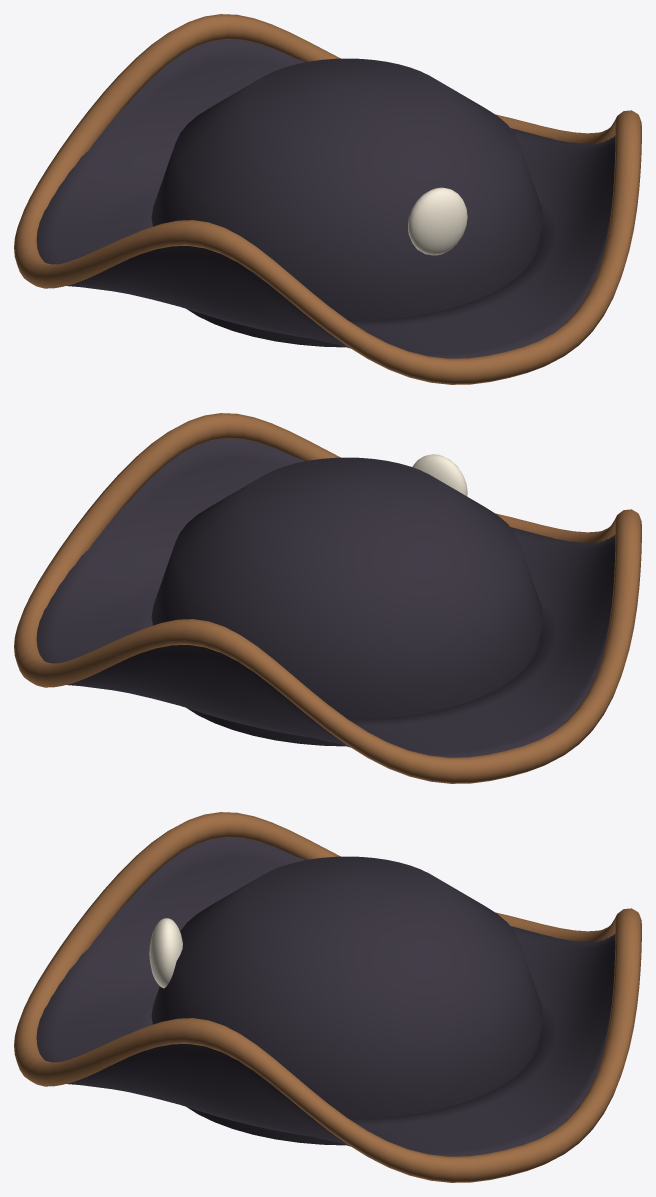
Rendered from piratehat.glb.
3 views of the same model, one above another, from view 1: azimuth 30°, elevation 25°; view 2: azimuth 150°, elevation 25°; view 3: azimuth 270°, elevation 25° (orthographic).
Parts seen in each view (by area): view 1: piratehat_Crown, piratehat_Brim, piratehat_Trim, piratehat_Skull; view 2: piratehat_Crown, piratehat_Brim, piratehat_Trim, piratehat_Skull; view 3: piratehat_Crown, piratehat_Brim, piratehat_Trim, piratehat_Skull.
Boxes of the visible parts, x1,y1,x2,y2 form: piratehat_Crown: (151,58,543,347); piratehat_Brim: (36,39,615,358); piratehat_Trim: (14,14,641,384); piratehat_Skull: (408,187,467,255); piratehat_Crown: (151,457,543,746); piratehat_Brim: (36,438,615,757); piratehat_Trim: (14,413,641,783); piratehat_Skull: (412,454,467,496); piratehat_Crown: (151,856,543,1145); piratehat_Brim: (36,837,615,1156); piratehat_Trim: (14,812,641,1182); piratehat_Skull: (149,918,182,988).
Bounding box in the file's own units: 0.5835 × 0.18 × 0.567.
